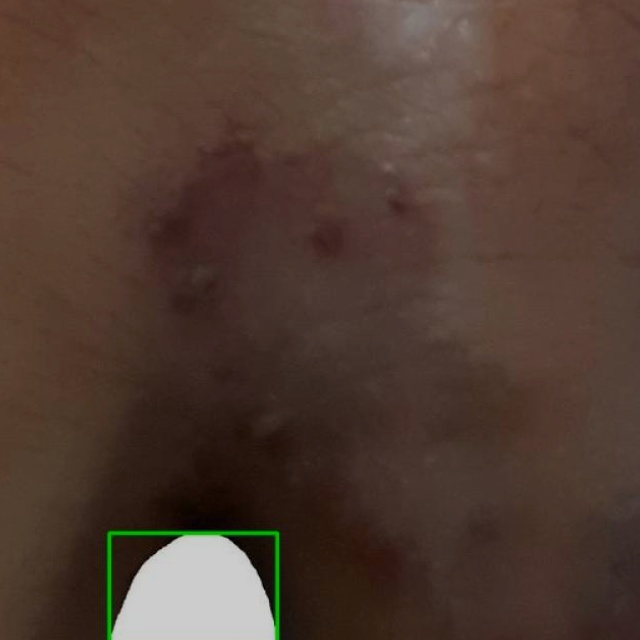Contact Dermatitis: (109, 533, 277, 639)
